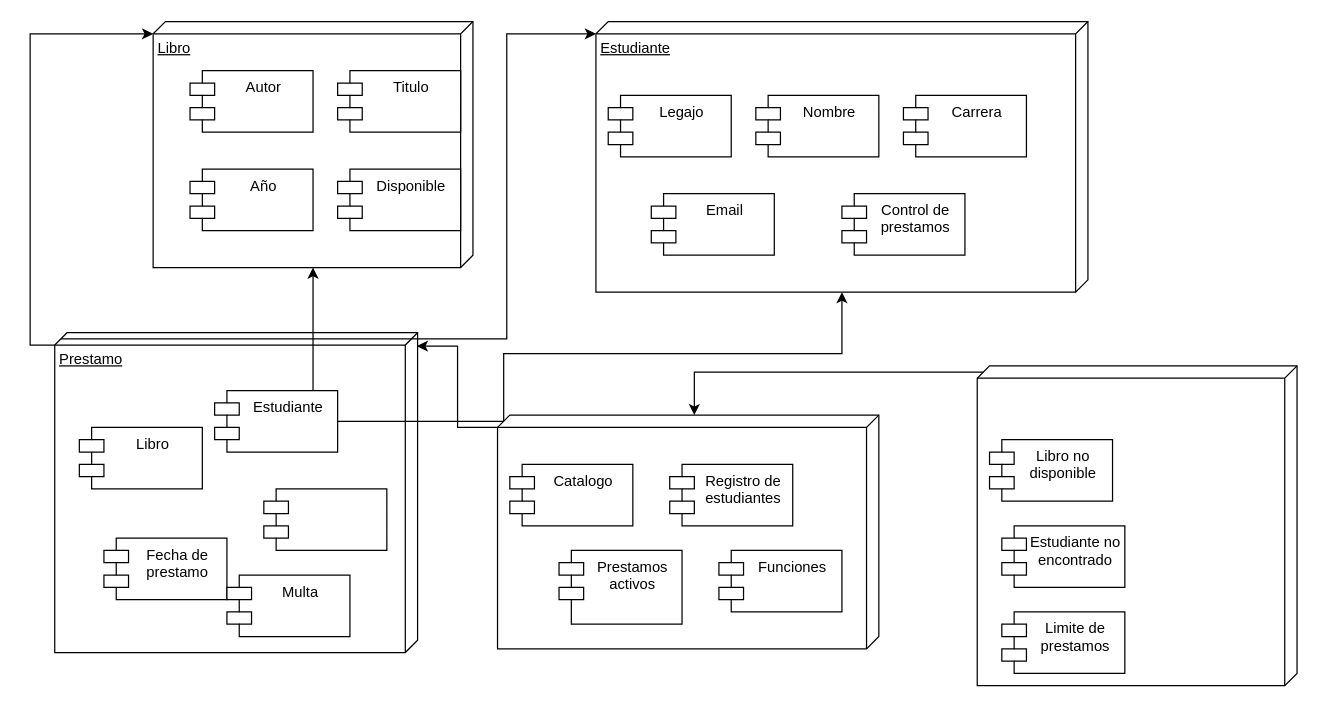
Image size: 1319x707. Some labels were removed from this diagram. Each missing label, with the box of its shape:
Biblioteca: (496, 414, 879, 649)
Excepciones: (976, 365, 1297, 686)
Fecha de devolucion: (263, 488, 387, 550)
